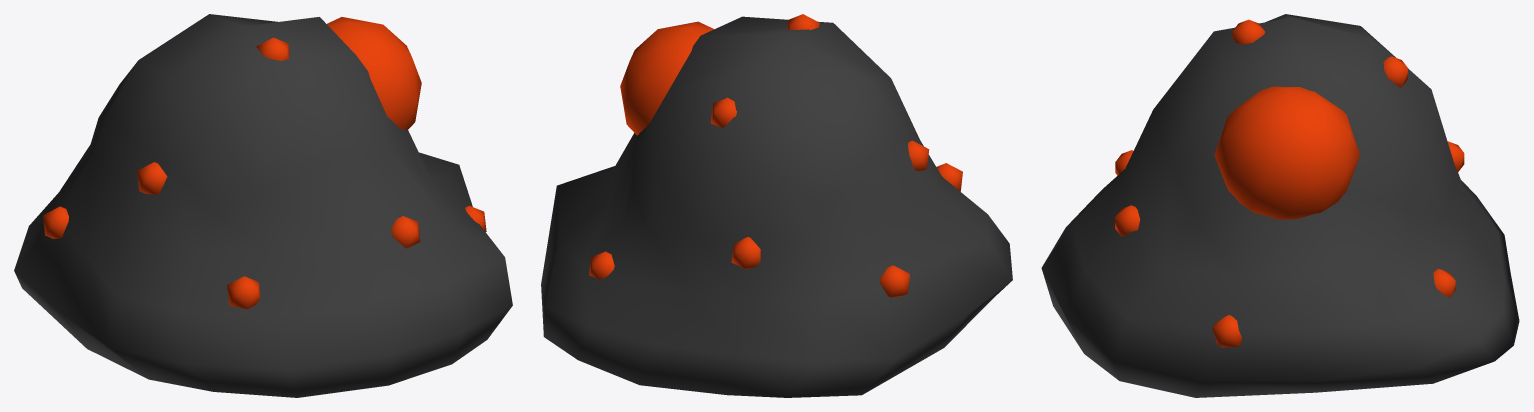
The model's file is SlimeMonster.fbx.
3 renders of one model, left to right at view 1: azimuth 30°, elevation 25°; view 2: azimuth 150°, elevation 25°; view 3: azimuth 270°, elevation 25°, orthographic. The views are drawn at different scales.
Visible parts, largest first — view 1: Cube, Icosphere, Icosphere.009, Icosphere.003, Icosphere.001, Icosphere.008, Icosphere.007; view 2: Cube, Icosphere, Icosphere.008, Icosphere.004, Icosphere.005, Icosphere.006, Icosphere.003, Icosphere.009; view 3: Cube, Icosphere, Icosphere.002, Icosphere.001, Icosphere.007, Icosphere.005, Icosphere.006.
Part boxes in pixels (x1,y1,x2,y2): Cube: (14, 14, 512, 397); Icosphere: (327, 17, 421, 130); Icosphere.009: (227, 276, 260, 309); Icosphere.003: (137, 162, 167, 194); Icosphere.001: (391, 216, 420, 248); Icosphere.008: (43, 206, 68, 238); Icosphere.007: (256, 37, 289, 61); Cube: (541, 16, 1012, 397); Icosphere: (620, 21, 713, 135); Icosphere.008: (879, 265, 909, 297); Icosphere.004: (731, 236, 760, 269); Icosphere.005: (710, 97, 736, 127); Icosphere.006: (589, 251, 614, 279); Icosphere.003: (908, 140, 929, 171); Icosphere.009: (936, 163, 962, 191); Cube: (1041, 14, 1519, 397); Icosphere: (1214, 86, 1359, 219); Icosphere.002: (1212, 315, 1241, 347); Icosphere.001: (1115, 205, 1140, 236); Icosphere.007: (1232, 19, 1264, 44); Icosphere.005: (1383, 56, 1407, 87); Icosphere.006: (1433, 269, 1455, 297).
Bounding box in the file's own units: 425 × 296 × 433.
